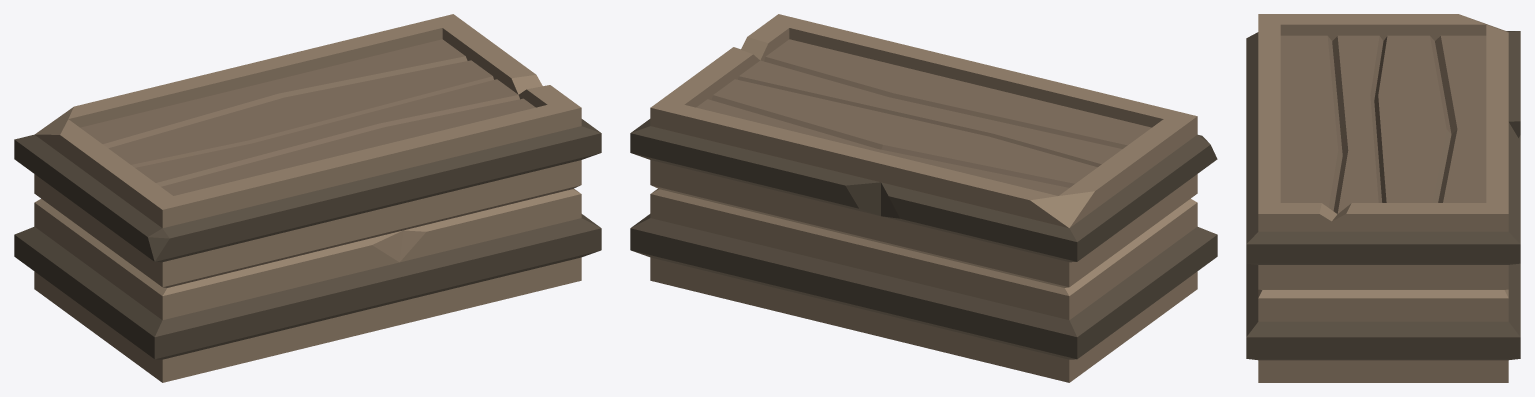
Rendered from Cassa_Parallelepipedo_Scura.fbx.
3 views of the same model, side by side, from view 1: azimuth 30°, elevation 25°; view 2: azimuth 150°, elevation 25°; view 3: azimuth 270°, elevation 25° (orthographic). The views are drawn at different scales.
Visible parts, largest first — view 1: SM_Prop_Crate_06; view 2: SM_Prop_Crate_06; view 3: SM_Prop_Crate_06.
Part boxes in pixels (x1,y1,x2,y2): SM_Prop_Crate_06: (14, 14, 601, 382); SM_Prop_Crate_06: (630, 14, 1217, 382); SM_Prop_Crate_06: (1246, 14, 1520, 382).
Size of the model in its own units: 95.44 by 35.31 by 51.89.
1 material, 1 textured.
